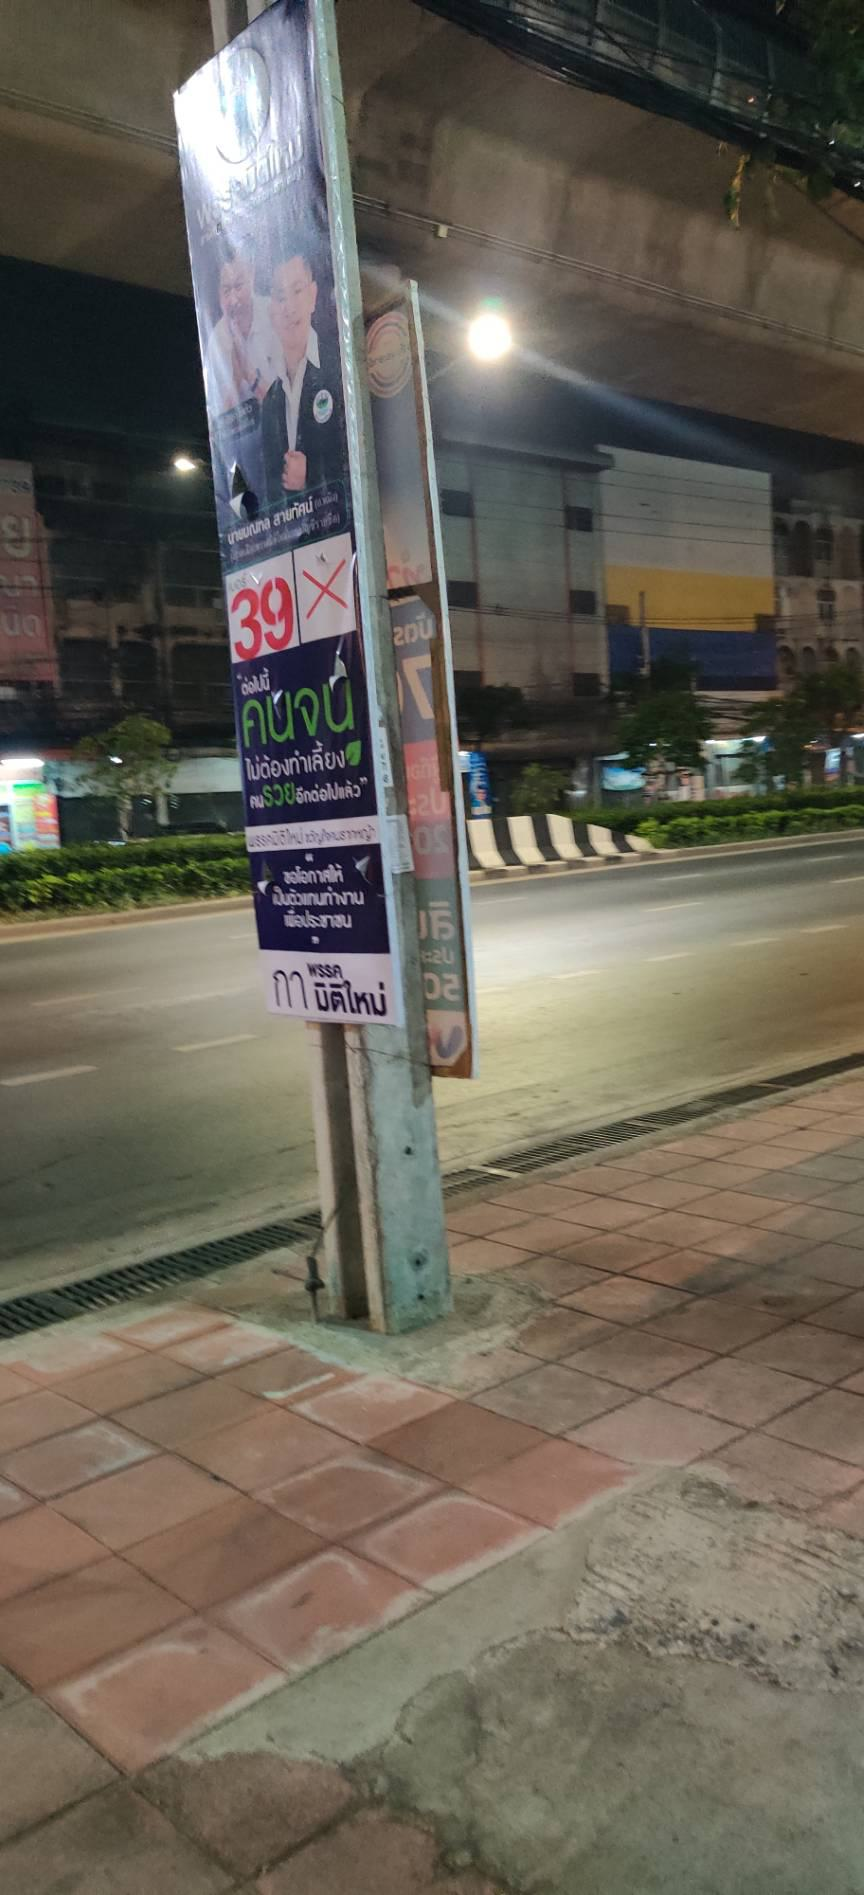Banner: (175, 0, 404, 1036)
